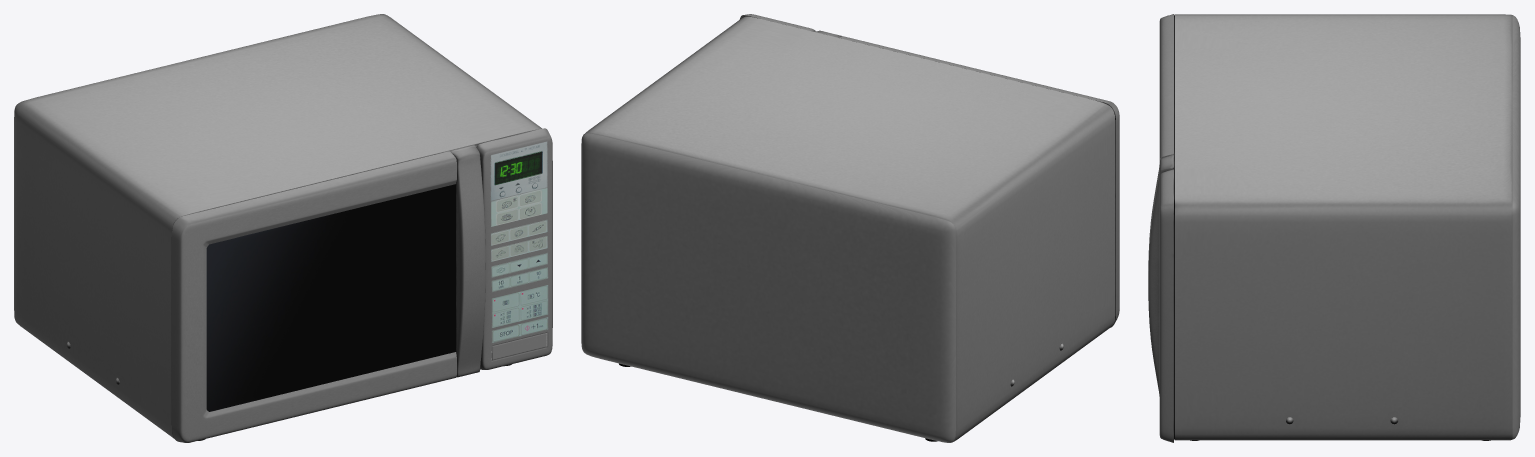
File: MicrowaveOven.glb
The picture shows the model from 3 angles, left to right: view 1: azimuth 30°, elevation 25°; view 2: azimuth 150°, elevation 25°; view 3: azimuth 270°, elevation 25°; orthographic projection. The views are drawn at different scales.
Visible parts, largest first — view 1: 10122_Microwave_Oven_v1_SG; view 2: 10122_Microwave_Oven_v1_SG; view 3: 10122_Microwave_Oven_v1_SG.
Part boxes in pixels (x1,y1,x2,y2): 10122_Microwave_Oven_v1_SG: (14,14,552,442); 10122_Microwave_Oven_v1_SG: (581,14,1119,442); 10122_Microwave_Oven_v1_SG: (1148,14,1520,442).
Size of the model in its own units: 46.36 by 27.38 by 36.96.
Materials: 1 (1 with a texture image).
